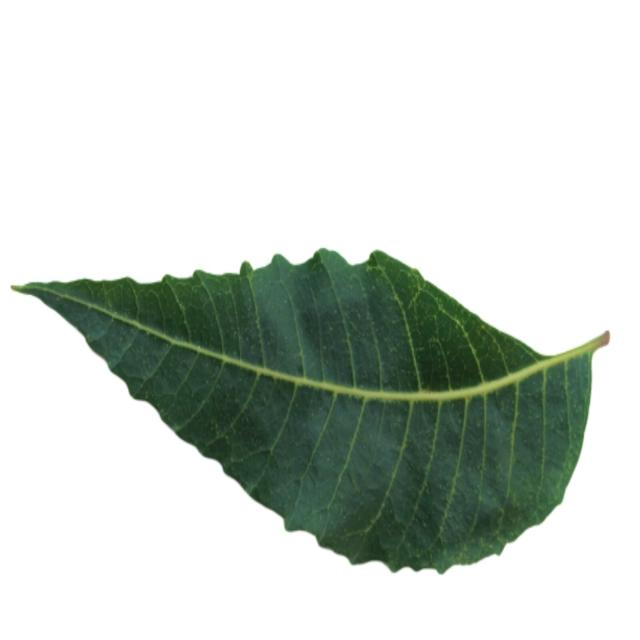Medicinal-Neem: (10, 239, 610, 575)
